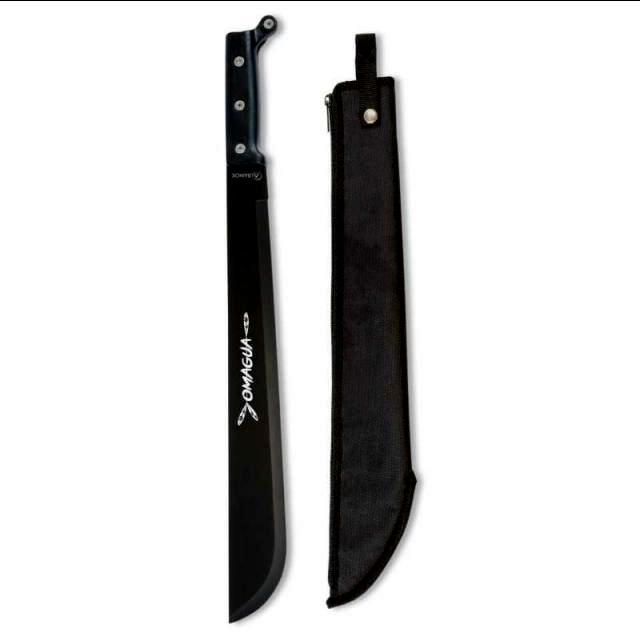long knife: (213, 8, 307, 626)
